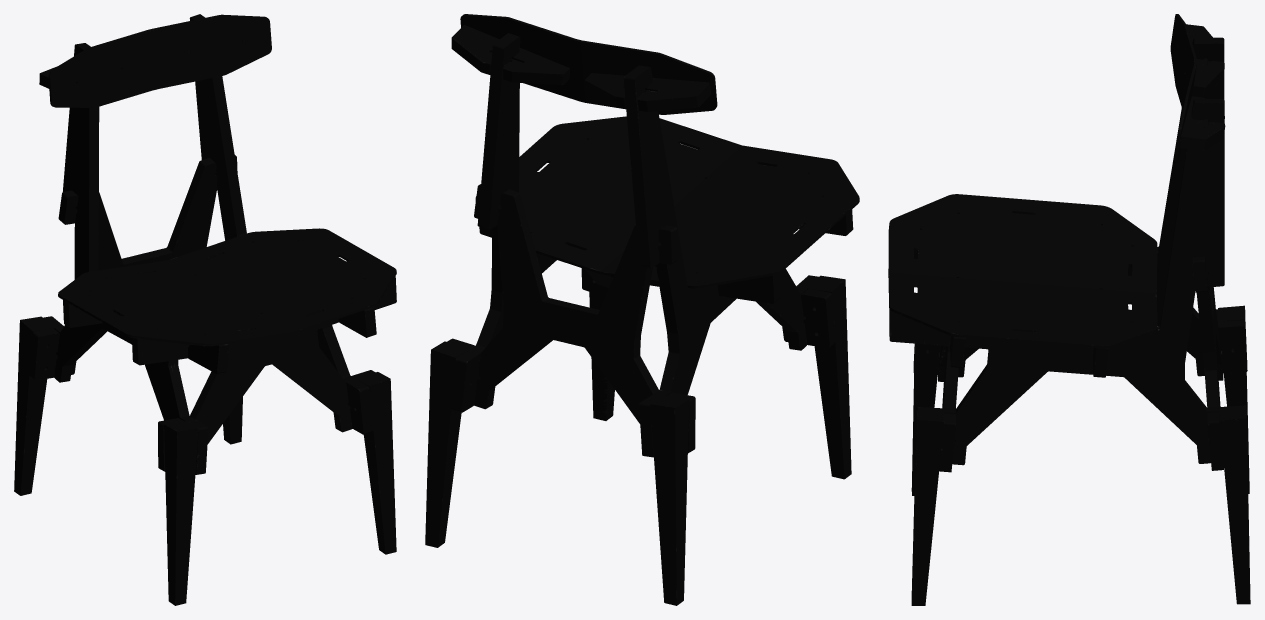
3 renders of one model, left to right at view 1: azimuth 30°, elevation 25°; view 2: azimuth 150°, elevation 25°; view 3: azimuth 270°, elevation 25°, orthographic. The views are drawn at different scales.
Visible parts, largest first — view 1: node_id3; view 2: node_id3; view 3: node_id3.
Boxes of the visible parts, x1,y1,x2,y2 form: node_id3: (14, 14, 396, 605); node_id3: (425, 14, 859, 605); node_id3: (888, 14, 1250, 605).
Size of the model in its own units: 0.3173 by 0.512 by 0.3451.
1 material, 1 textured.
